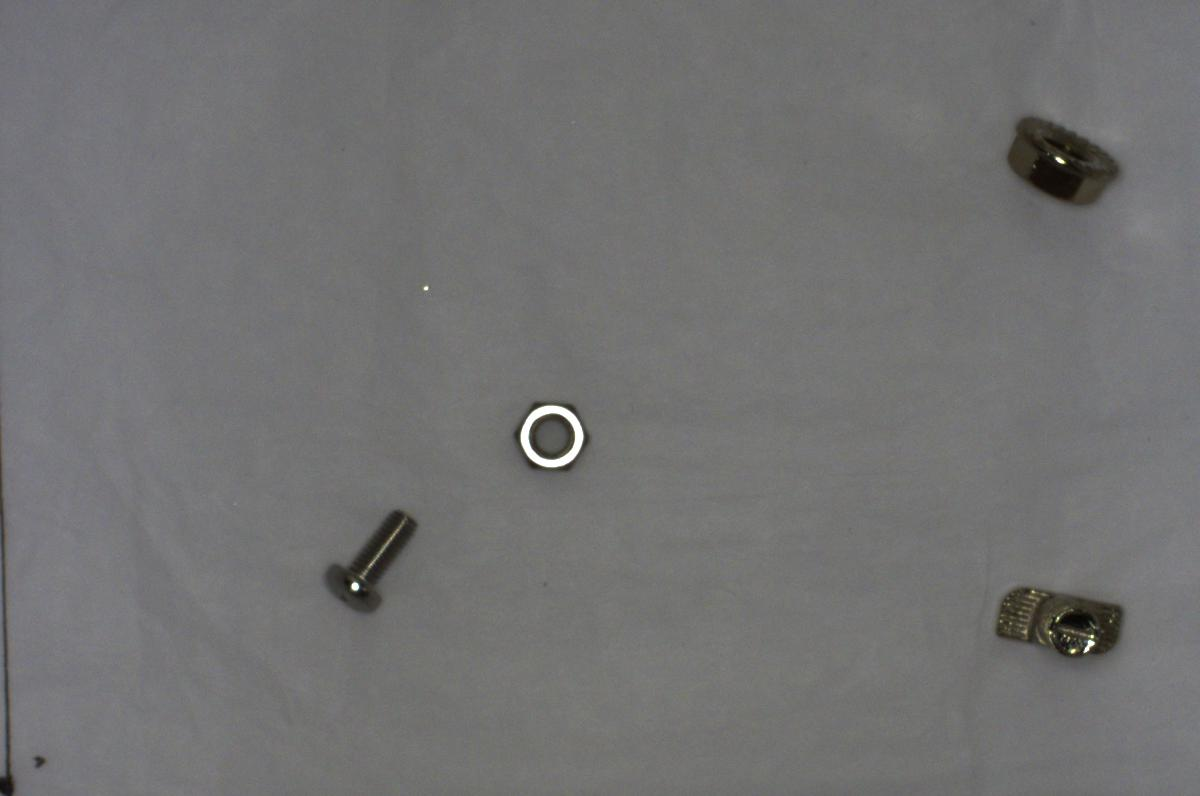Flange nut: (1002, 103, 1131, 216)
Hexagon nut: (497, 392, 598, 480)
Round head screw: (318, 506, 422, 612)
T-shaped screw: (987, 574, 1134, 665)
